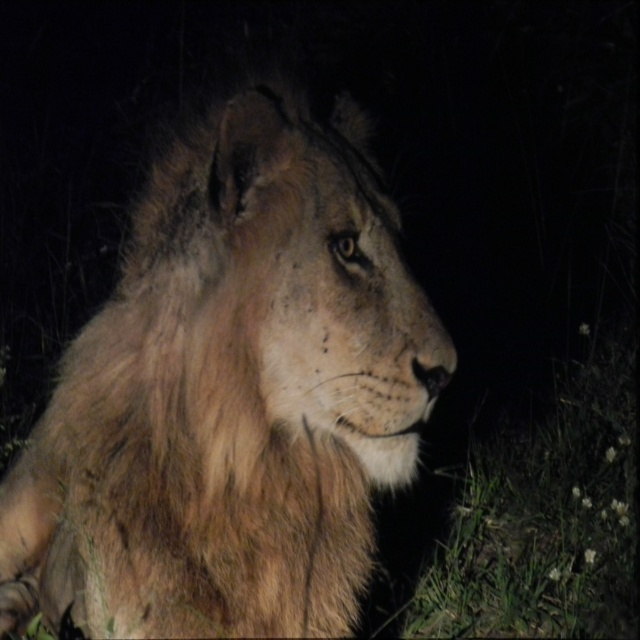Lion: (0, 65, 455, 639)
